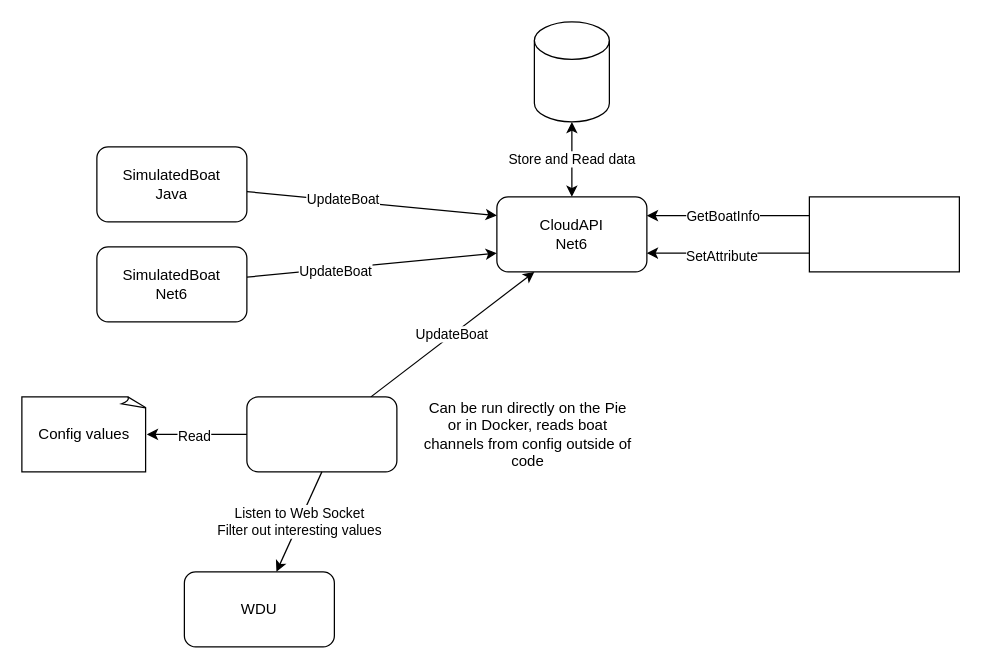
Image size: 981x669. Some labels were removed from this diagram. The centre of each missing label's shape, as x and y in pixels:
Db: (571,71)
Monitor React: (883,234)
Raspberry Pie Javascript: (321,434)
